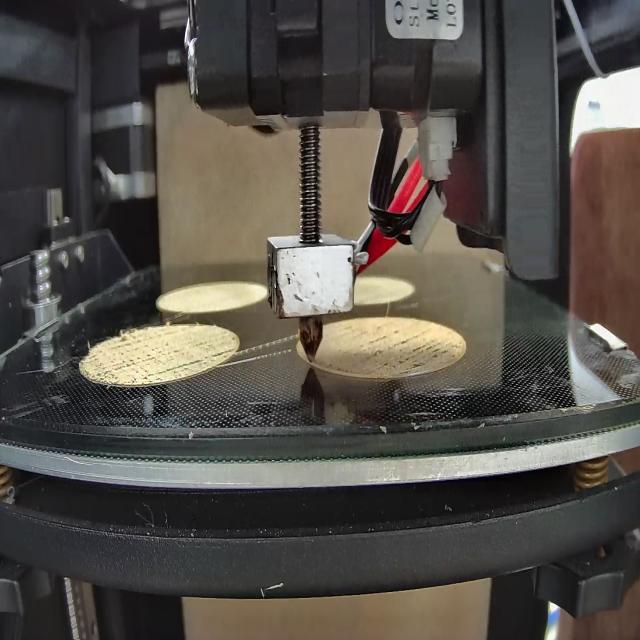under_extrusion: (80, 330, 206, 383), (342, 320, 461, 375), (210, 340, 240, 365)
